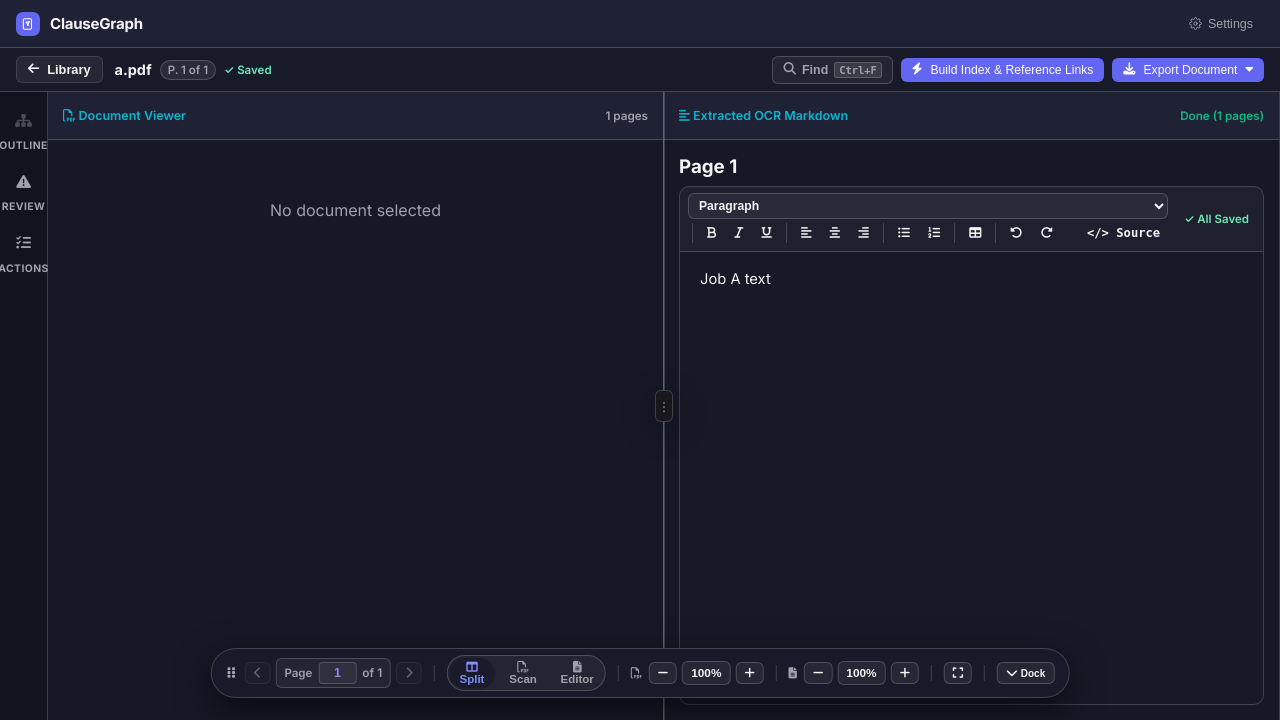
Test: AppShell/StudioView — jobDetails is cleared immediately on any job switch (regression) › shows a loading state instead of the previous job's stale text while switching
Later steps or results of the test are not shown.
Expected: the text box "Job A text" is shown, [700, 270, 771, 288]
Click the button with test id "back-to-library-btn": {"x": 59, "y": 70} [16, 56, 103, 83]
(page scrolled)
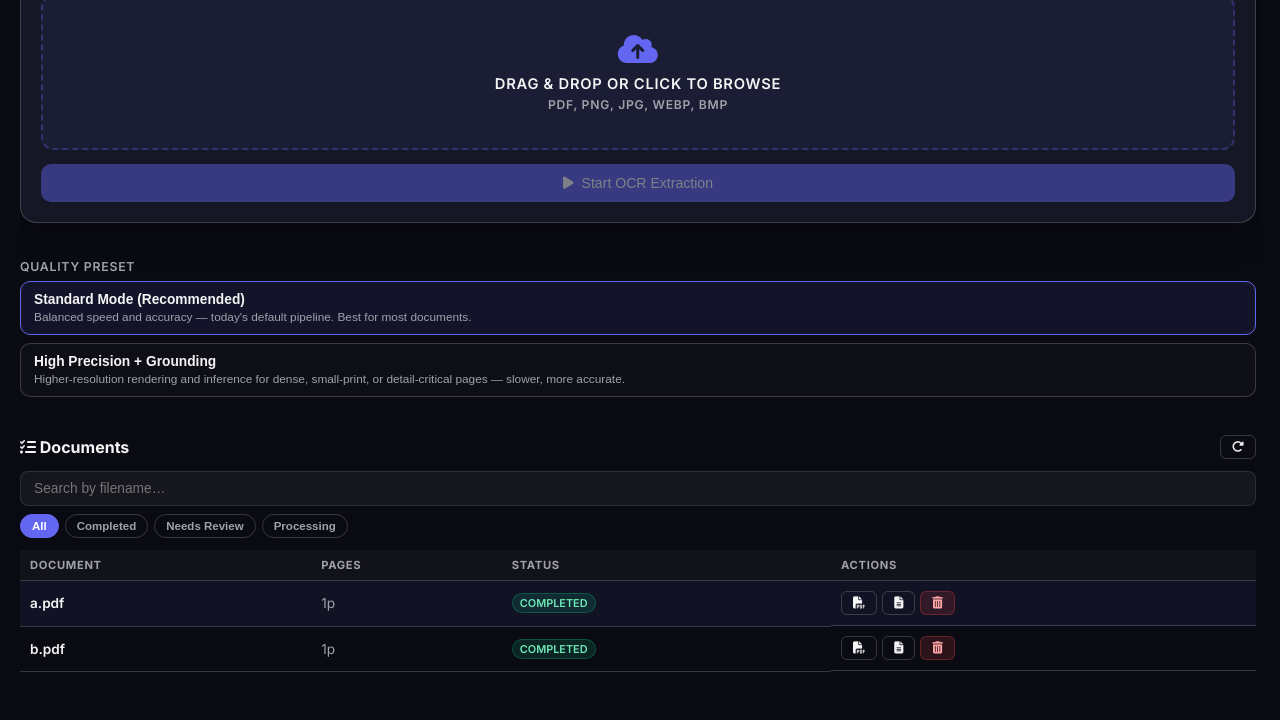
Click the row with test id "history-card" showing "b.pdf 1p completed": {"x": 638, "y": 649} [20, 626, 1256, 672]
(page scrolled)
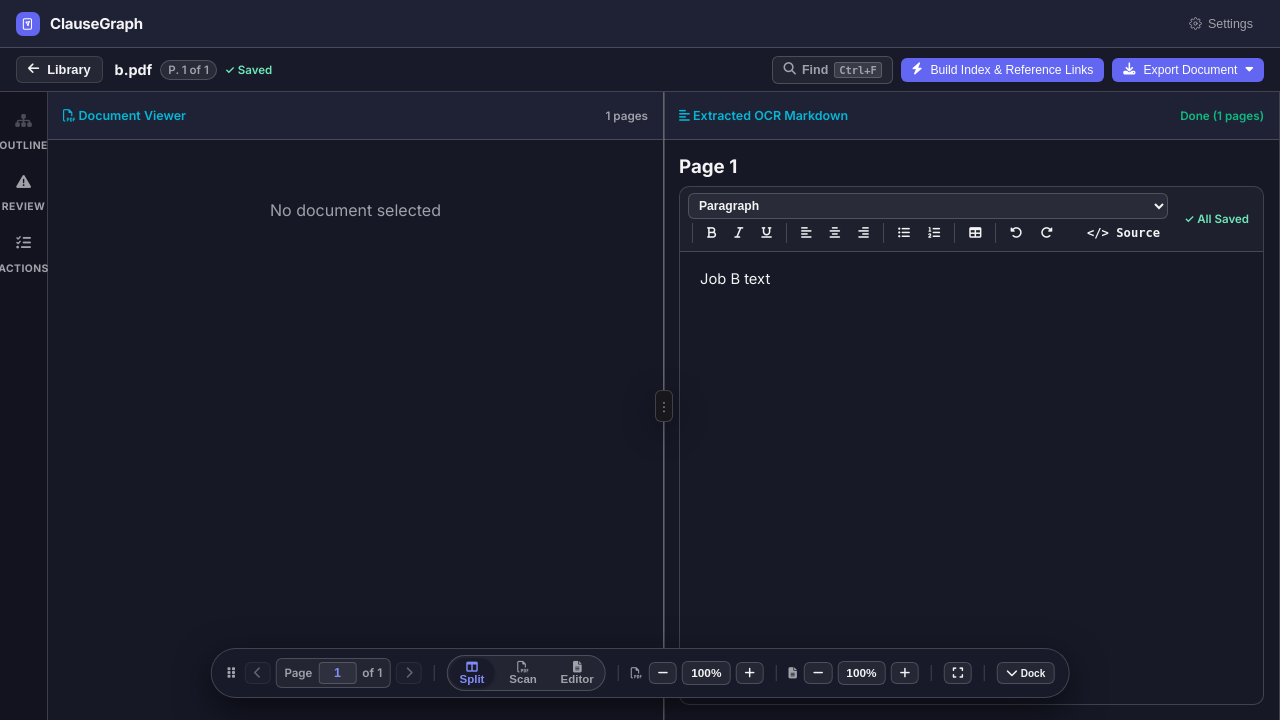
Expected: the text box "Job A text" is not shown
Expected: the text box "Job B text" is shown, [700, 270, 770, 288]
